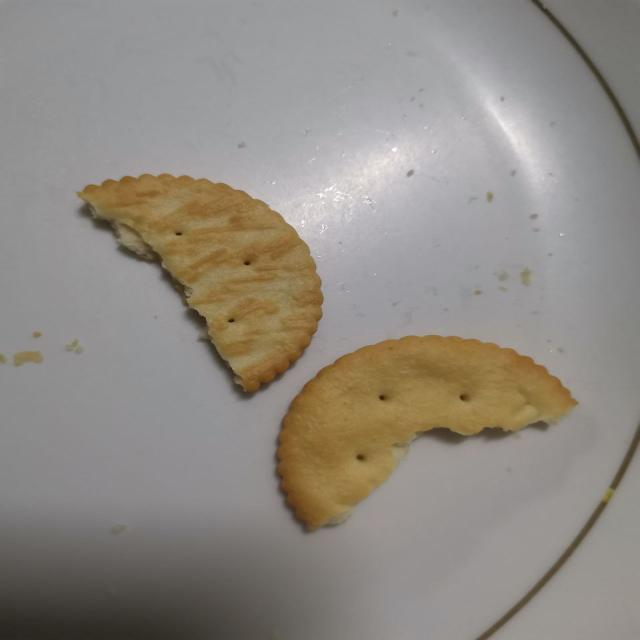broken biscuit: (272, 332, 578, 532), (75, 170, 325, 394)
